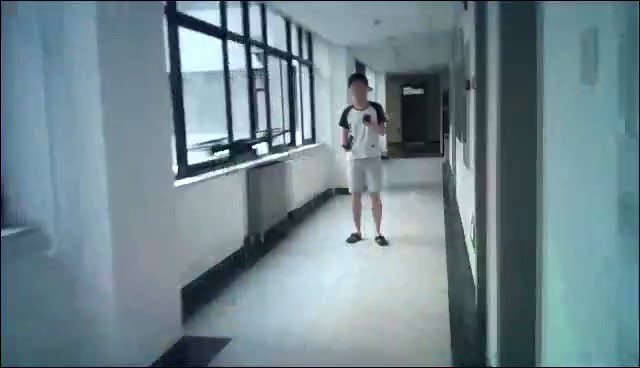drone: (185, 126, 295, 163)
person: (337, 71, 387, 249)
